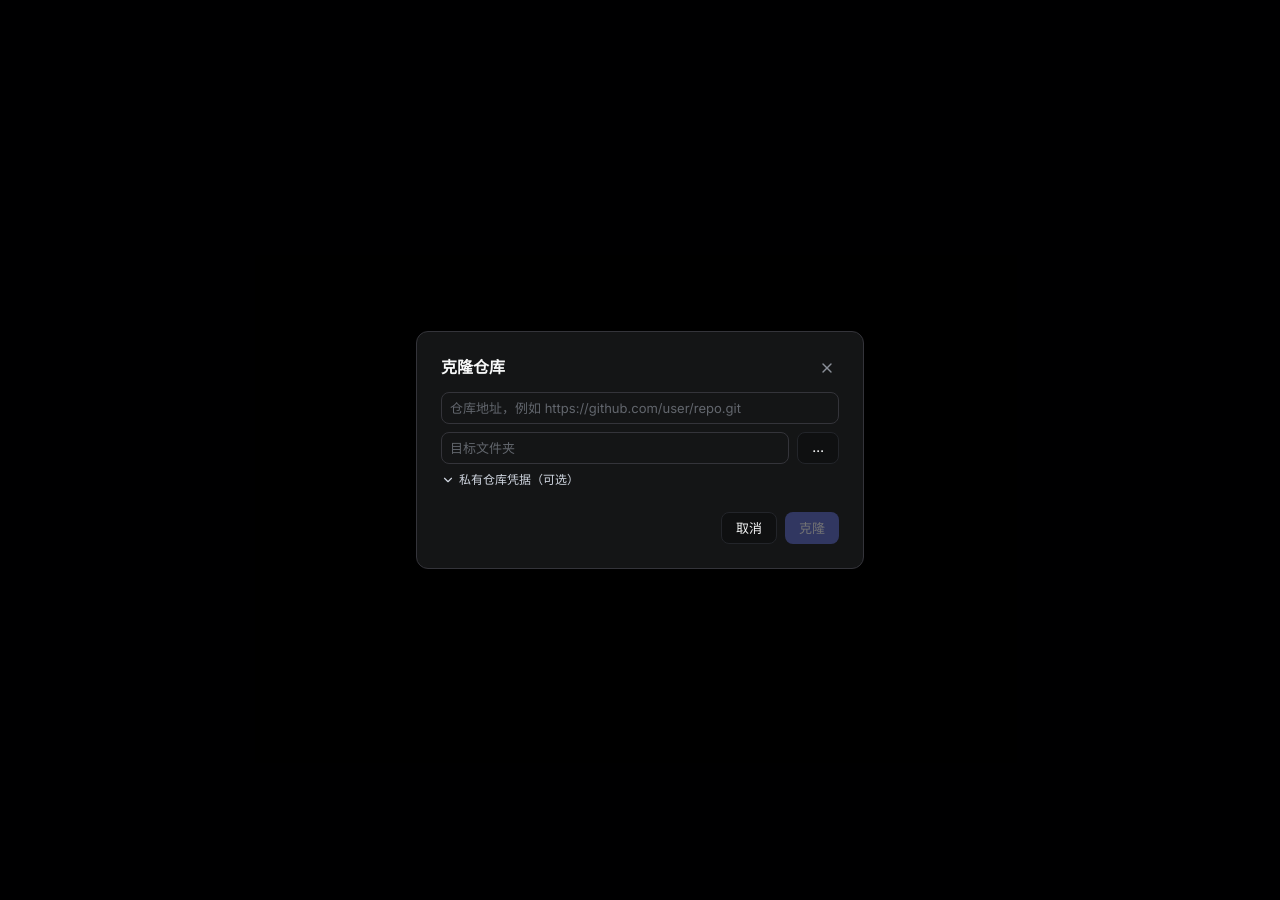
it: CloneDialog failure surfacing (rc.2 真人反馈) › keeps the error toast with the 查看日志 hint action
Type "http://example.com/demo.git" into the field with test id "clone-url-input".
click(640, 408); type("http://example.com/demo.git")  # box [441,392,839,424]
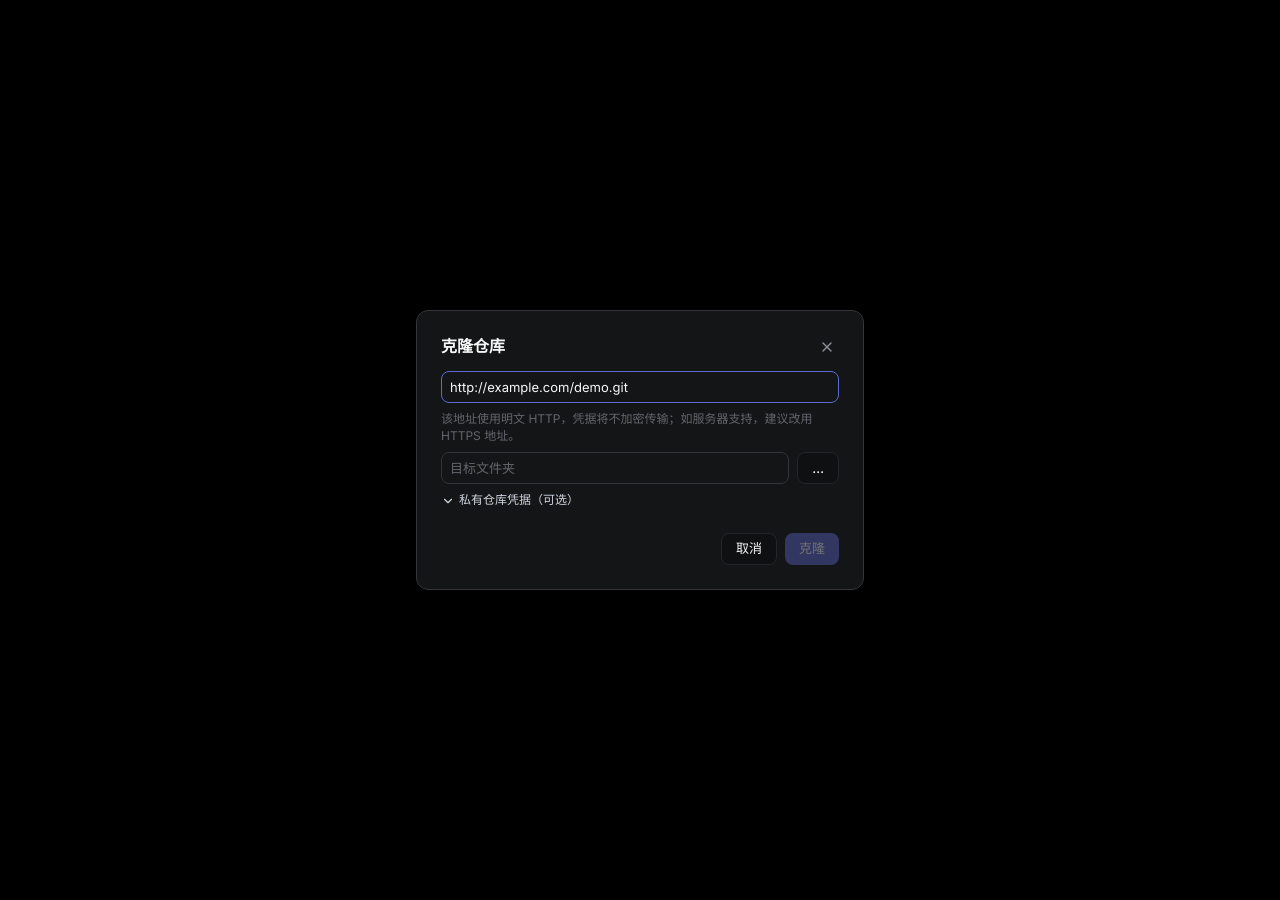
Type "C:/tmp/demo" into the field with test id "clone-path-input".
click(615, 468); type("C:/tmp/demo")  # box [441,452,789,484]
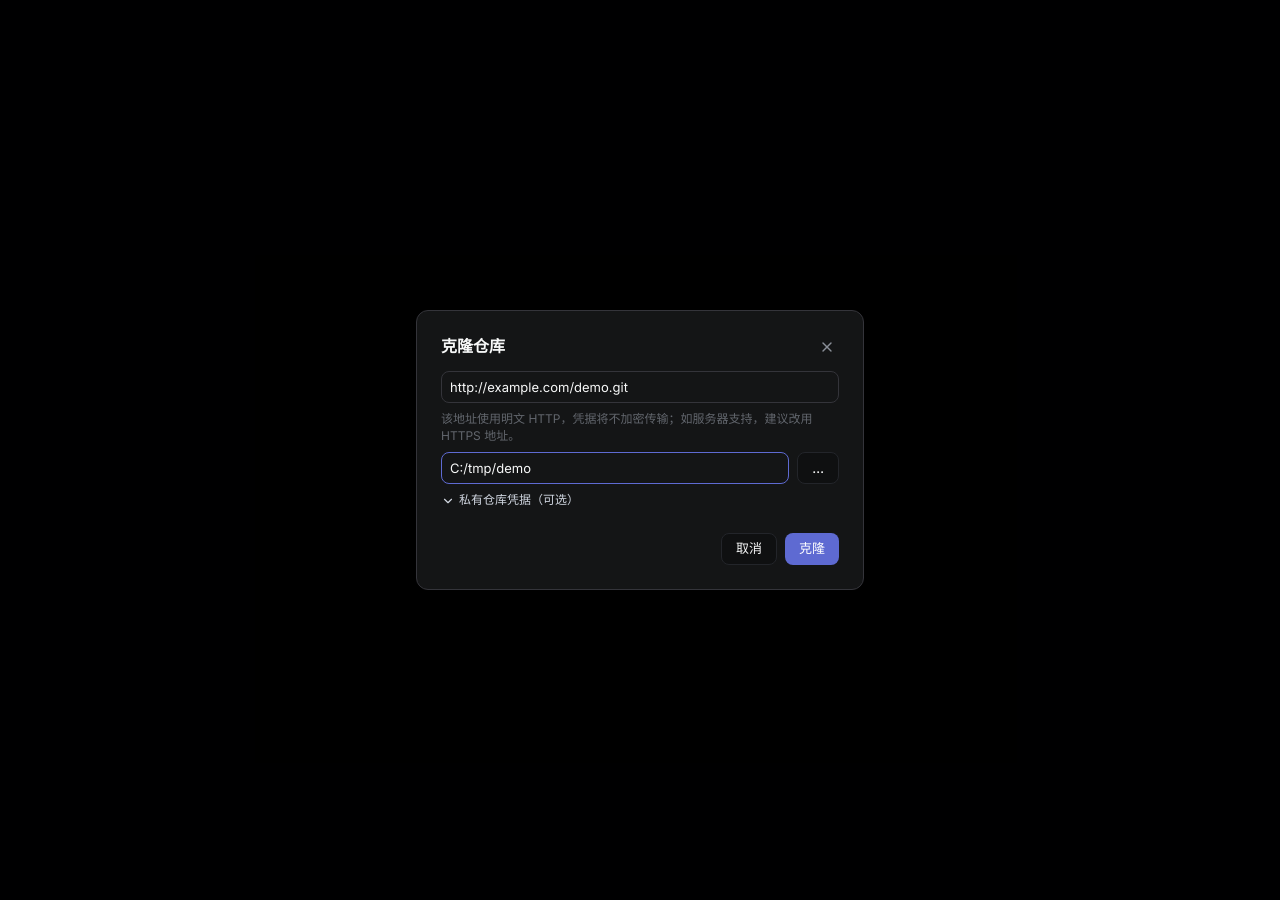
Click the button with test id "clone-confirm".
click(812, 549)  # box [785,533,839,565]
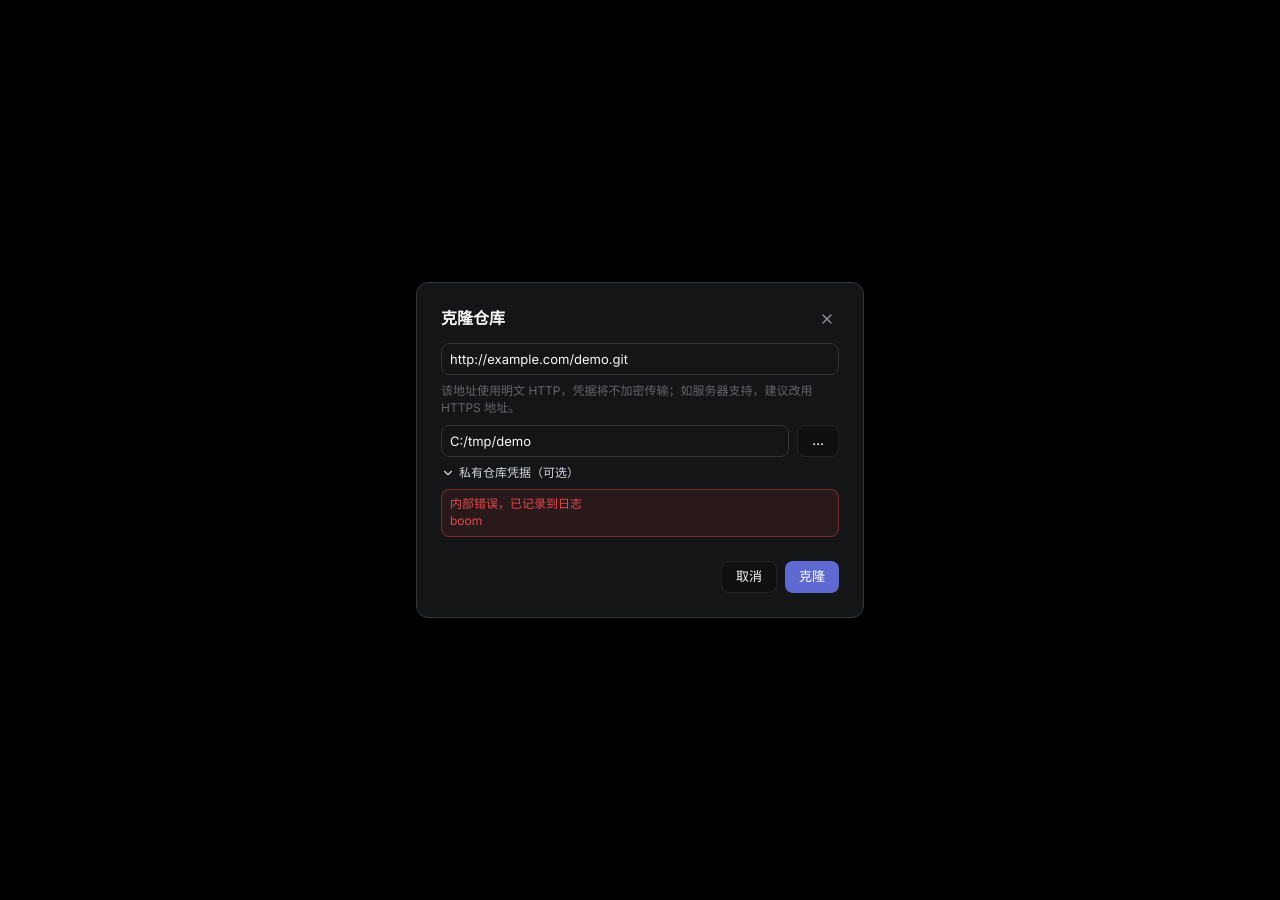
Expected: the message "内部错误，已记录到日志 boom" is shown, [441,489,839,537]
